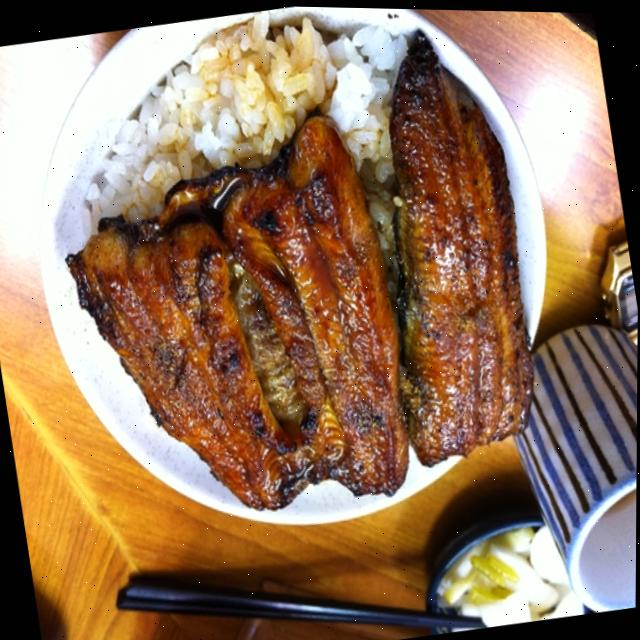熟制海鲜: (7, 0, 589, 571)
